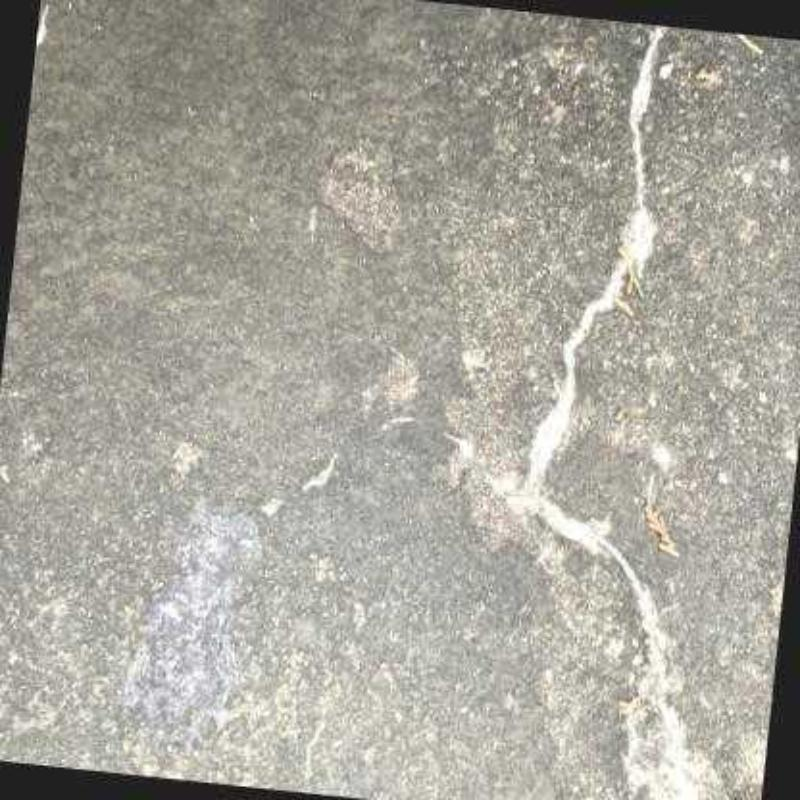pothole: (483, 24, 702, 798), (642, 508, 677, 560)
